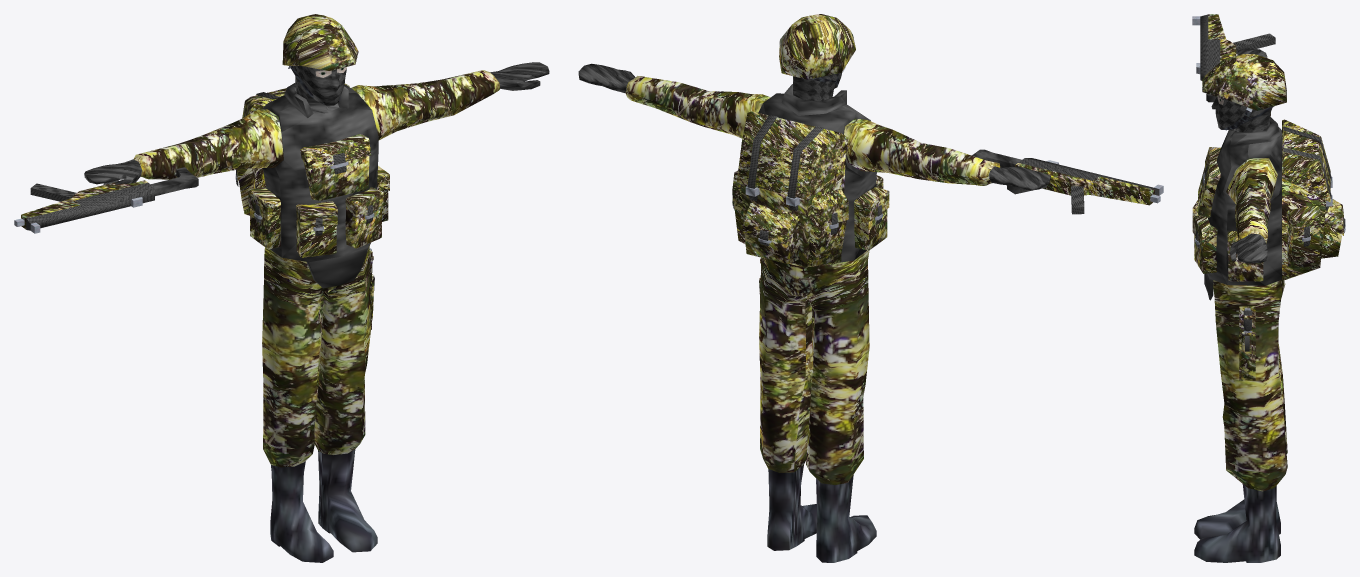
File: elite.obj
3 views of the same model, side by side, from view 1: azimuth 30°, elevation 25°; view 2: azimuth 150°, elevation 25°; view 3: azimuth 270°, elevation 25° (orthographic). The views are drawn at different scales.
Parts seen in each view (by area): view 1: legs, arms, vest, boots, bags, baglids, MP5, hat, hands, head, MP5grip; view 2: legs, arms, baglids, boots, bags, vest, hat, hands, MP5grip, MP5, ribbon, head; view 3: legs, vest, baglids, bags, boots, hat, arms, MP5, head, hands, bladecover, ribbon (+2 smaller).
Boxes of the visible parts, x1,y1,x2,y2 form: legs: [262, 245, 370, 467]; arms: [134, 70, 499, 179]; vest: [262, 83, 378, 288]; boots: [270, 449, 377, 562]; bags: [239, 156, 388, 257]; baglids: [237, 83, 389, 228]; MP5: [26, 167, 198, 230]; hat: [282, 14, 358, 70]; hands: [84, 62, 549, 184]; head: [293, 66, 346, 113]; MP5grip: [21, 180, 147, 229]; legs: [759, 250, 869, 484]; arms: [625, 76, 1000, 185]; baglids: [732, 111, 889, 244]; boots: [767, 465, 876, 562]; bags: [734, 153, 887, 267]; vest: [758, 84, 876, 262]; hat: [779, 14, 855, 79]; hands: [578, 63, 1050, 190]; MP5grip: [1015, 163, 1154, 205]; MP5: [972, 149, 1159, 214]; ribbon: [732, 114, 881, 246]; head: [793, 72, 842, 101]; legs: [1213, 280, 1287, 491]; vest: [1204, 117, 1282, 300]; baglids: [1192, 119, 1343, 253]; bags: [1194, 167, 1342, 281]; boots: [1194, 484, 1280, 562]; hat: [1202, 54, 1286, 110]; arms: [1226, 112, 1277, 243]; MP5: [1200, 14, 1275, 102]; head: [1211, 97, 1272, 140]; hands: [1230, 48, 1267, 263]; bladecover: [1239, 306, 1255, 380]; ribbon: [1195, 126, 1345, 248].
Bounding box in the file's own units: 2.01 × 1.81 × 0.5144.
